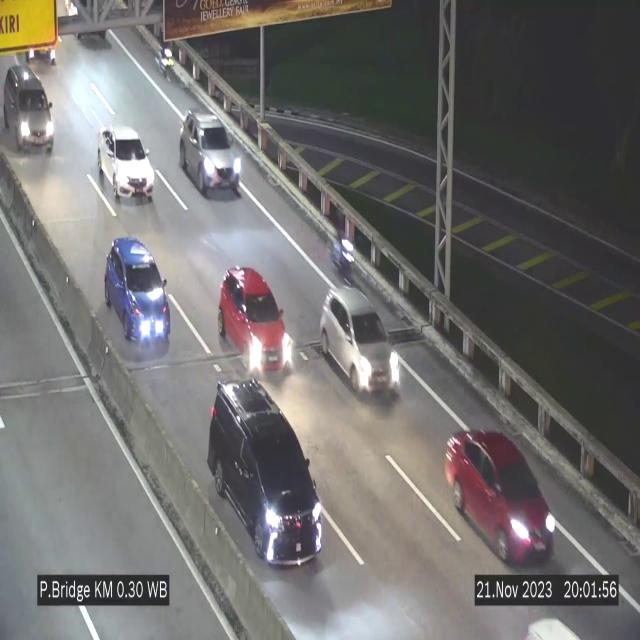Car: (204, 380, 324, 574), (445, 429, 557, 564), (320, 286, 398, 394), (218, 267, 293, 374), (104, 238, 170, 348), (0, 59, 56, 154), (179, 112, 241, 197), (98, 126, 154, 203)
Motorcycle: (330, 207, 355, 283), (158, 32, 174, 88)
